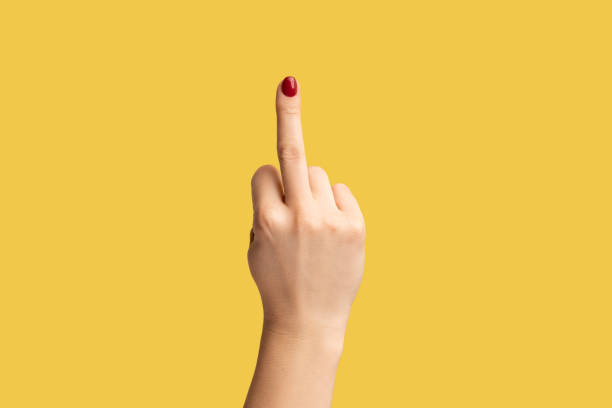insulting_gesture: (246, 74, 366, 323)
